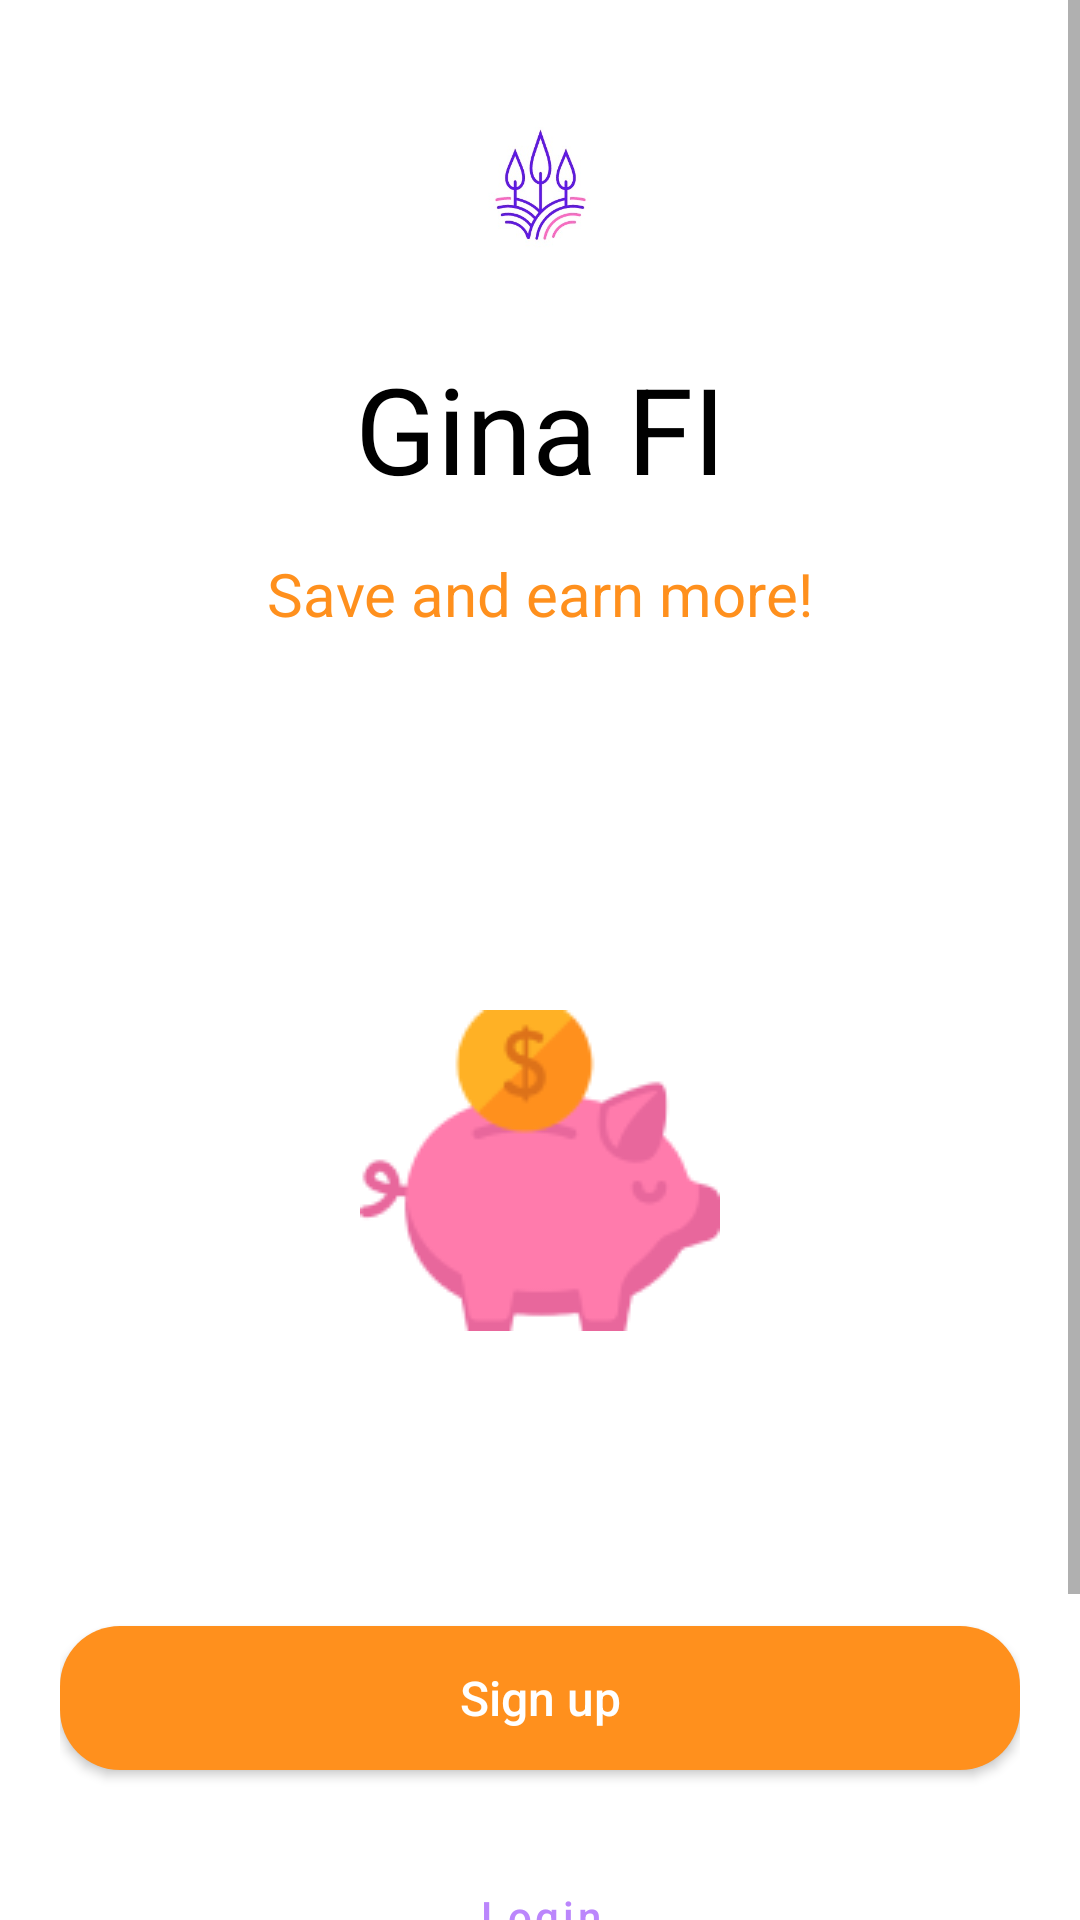

Screen size 1080 x 1920. Icon name, then its box in pixels as bbox=(x1, y1, x2, y2):
piggy bank: bbox=(360, 1010, 720, 1331)
